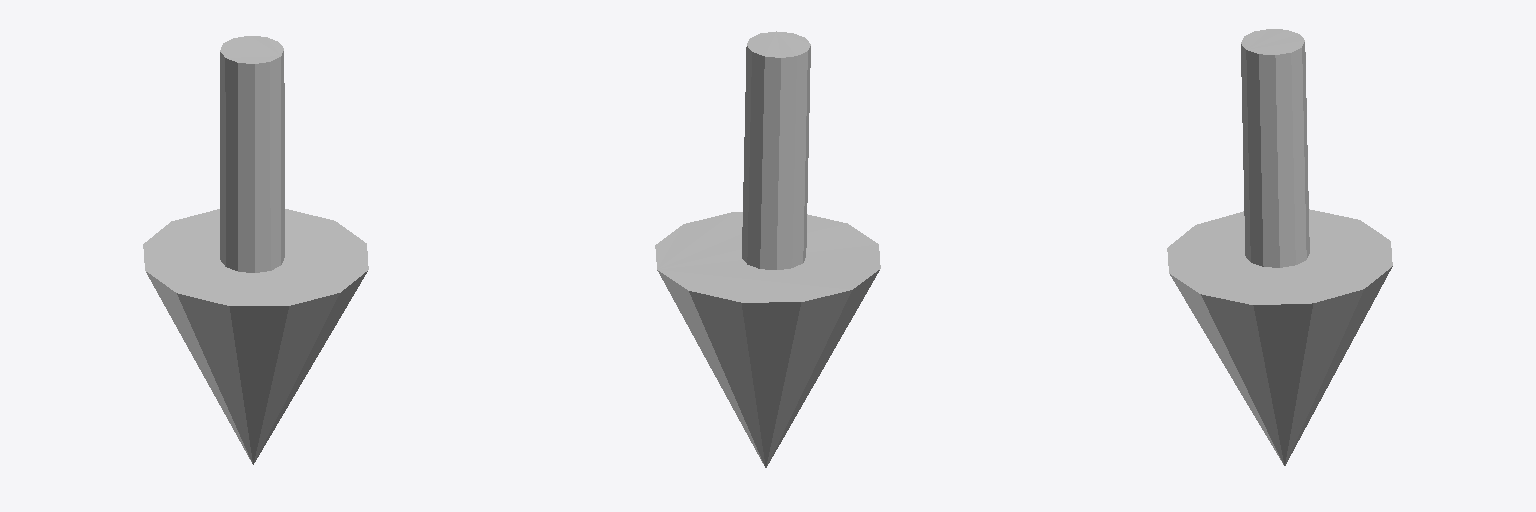
Rendered from arrow.obj.
3 views of the same model, side by side, from view 1: azimuth 30°, elevation 25°; view 2: azimuth 150°, elevation 25°; view 3: azimuth 270°, elevation 25° (orthographic).
Visible parts, largest first — view 1: mesh_0; view 2: mesh_0; view 3: mesh_0.
Part boxes in pixels (x1,y1,x2,y2): mesh_0: (143, 36, 368, 464); mesh_0: (655, 31, 880, 467); mesh_0: (1167, 29, 1392, 465).
Size of the model in its own units: 0.4185 by 0.8641 by 0.4185.